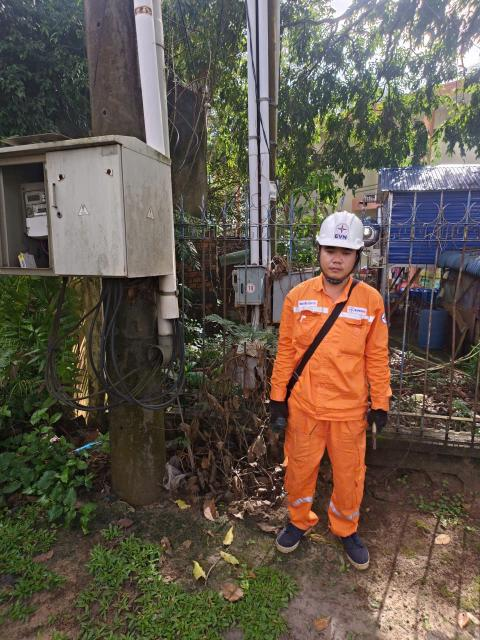gloves: (359, 396, 397, 446), (257, 393, 299, 434)
helmet: (314, 205, 377, 262)
shoes: (333, 509, 389, 578), (265, 503, 322, 567)
